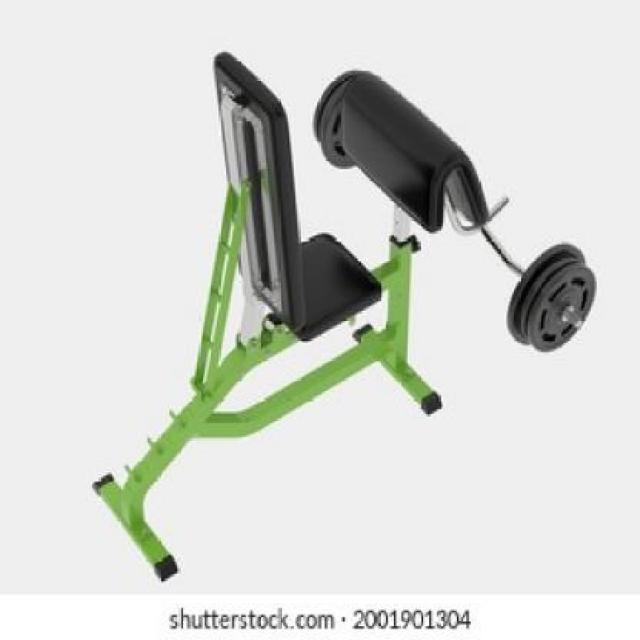arm curl machine: (91, 48, 597, 584)
